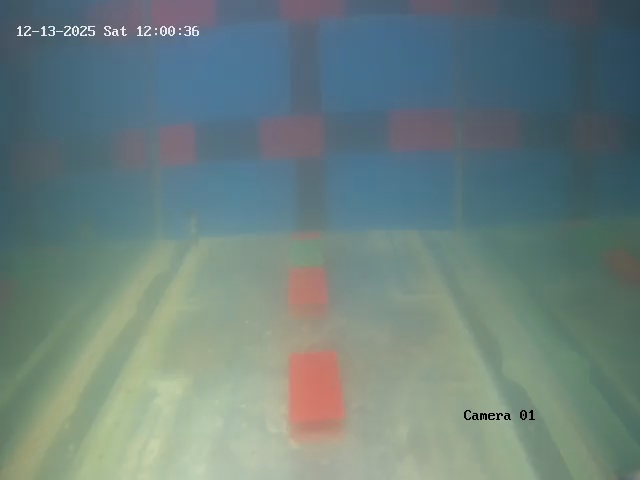fish: (160, 202, 216, 254)
